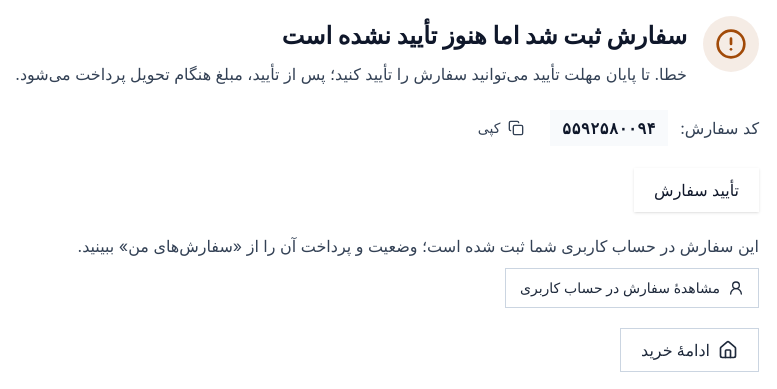
the thanks page’s confirmation and the account’s lists › signed in, settled meanwhile (409): marked stale too, the order moved
Click the button "تأیید سفارش". click: (697, 190)
box: x1=634 y1=168 x2=759 y2=212
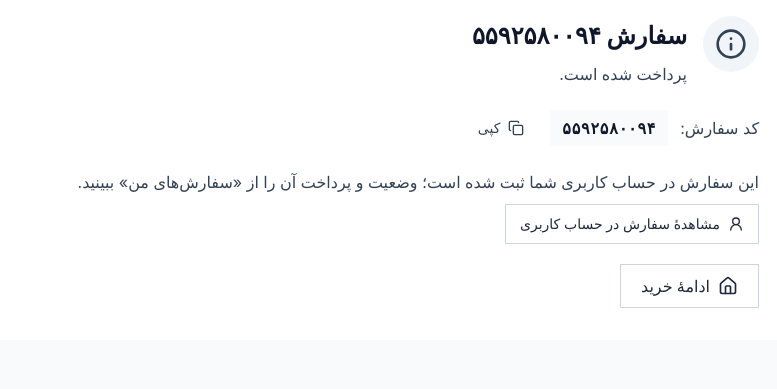
Now the text "پرداخت شده است." is shown, box x1=559 y1=64 x2=687 y2=84
